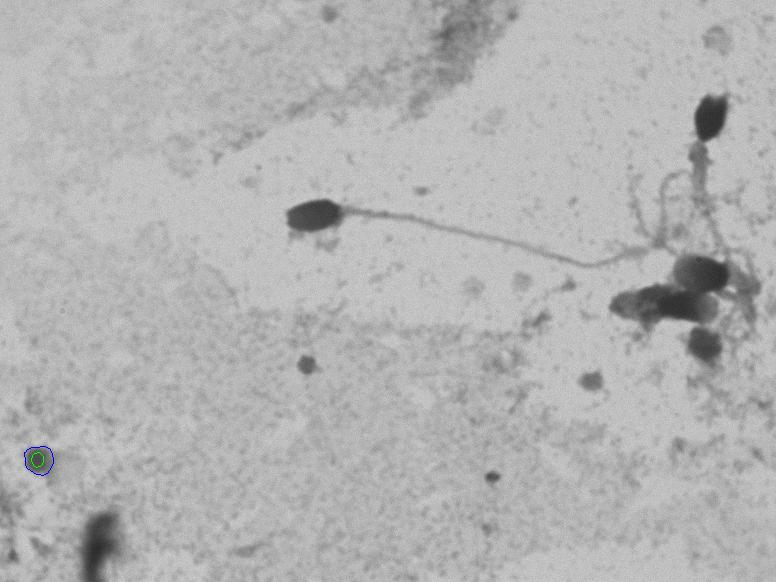Abnormal: (278, 144, 684, 276)
